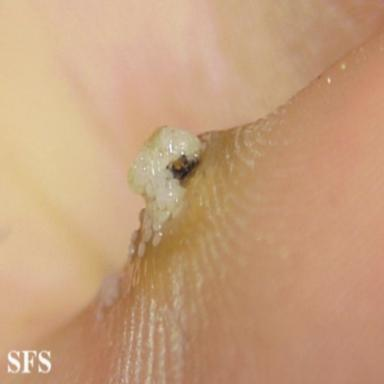Tungiasis: (127, 126, 211, 257)
